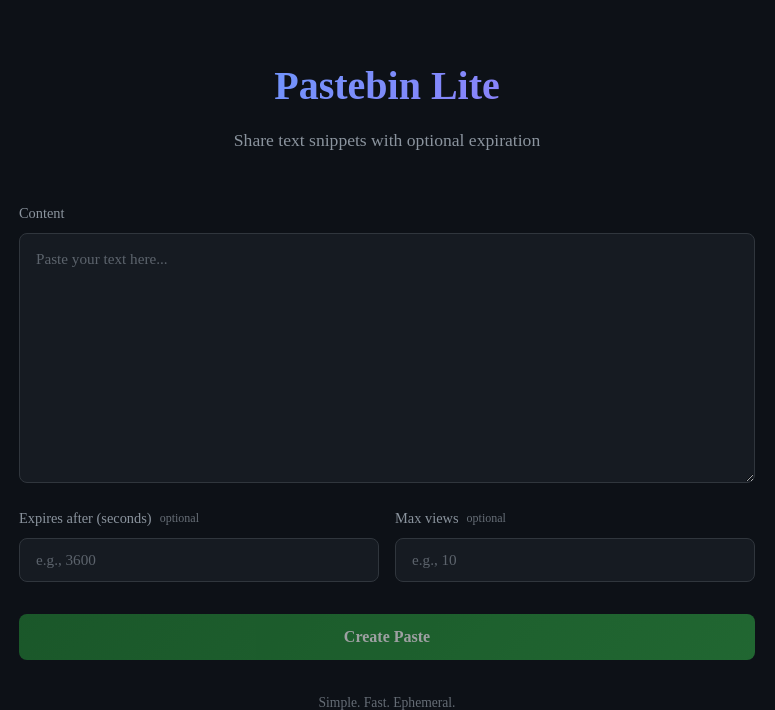
Test case: Home Page - Create Paste Form › form submission - errors › should display server validation error for invalid TTL
Type "Test" into the text box labelled "Content" at (387, 358), box [19, 233, 755, 483]
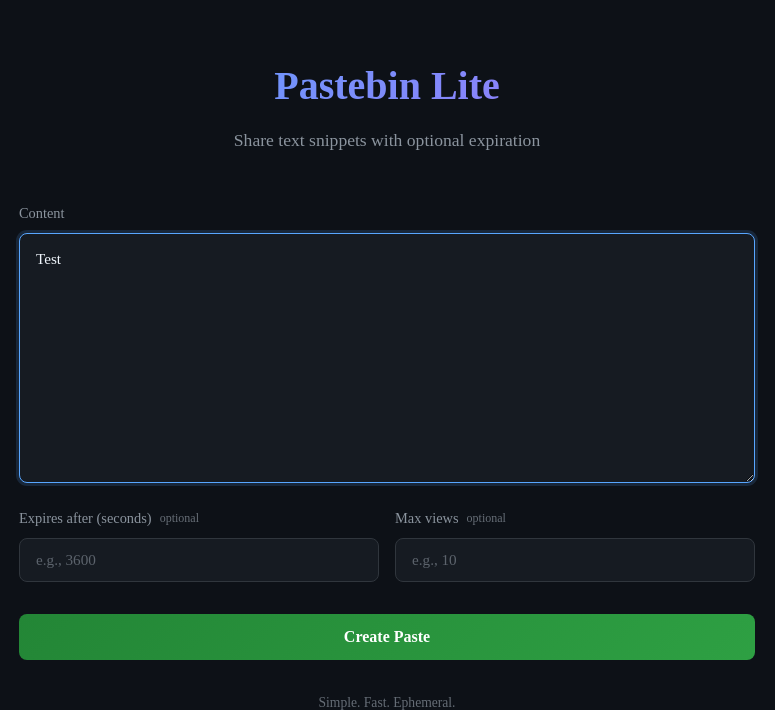
Type "1" into the number field labelled "Expires after (seconds) optional" at (199, 560), box [19, 538, 379, 582]
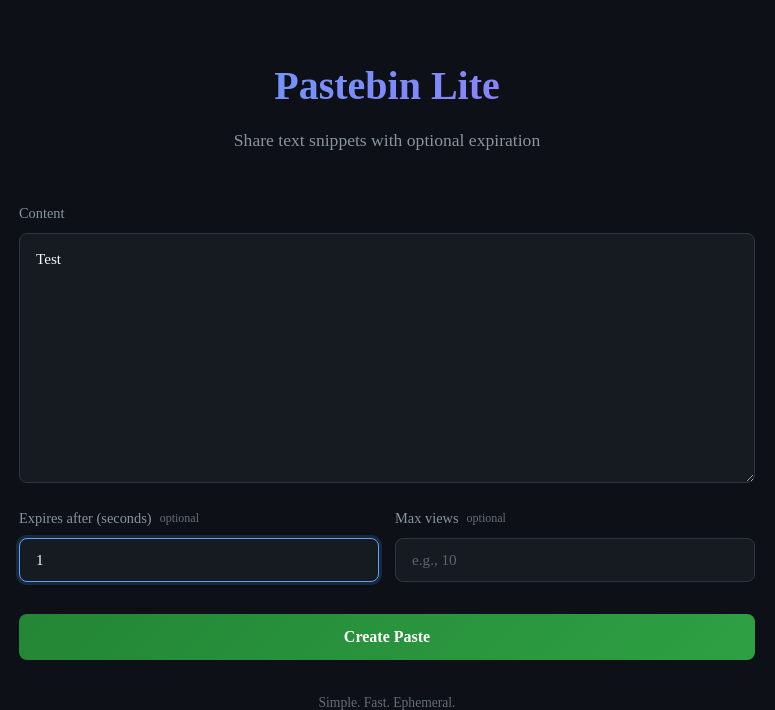
Click the button "Create Paste" at (387, 637), box [19, 614, 755, 660]
(page scrolled)
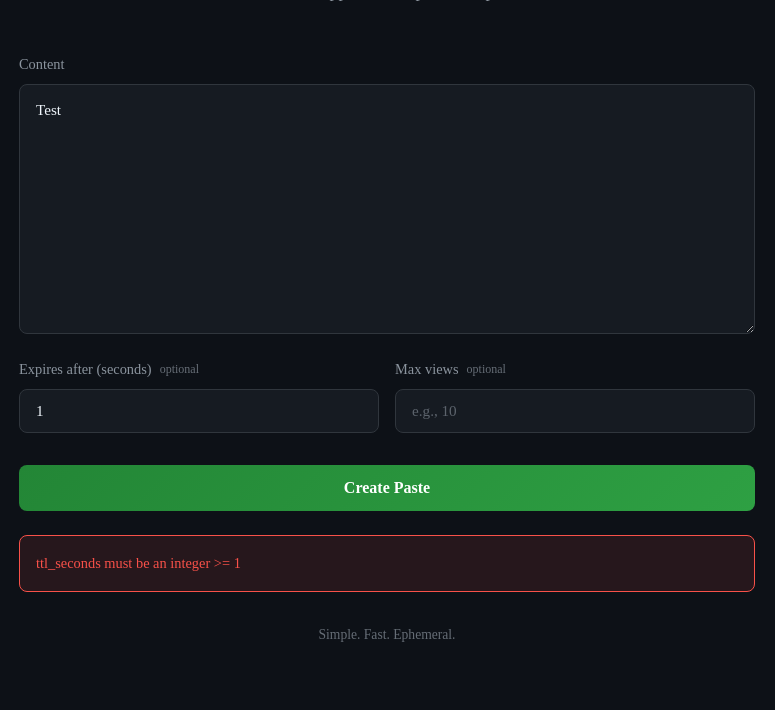
Expected: the message shows "ttl_seconds must be an integer", [36, 555, 241, 571]
